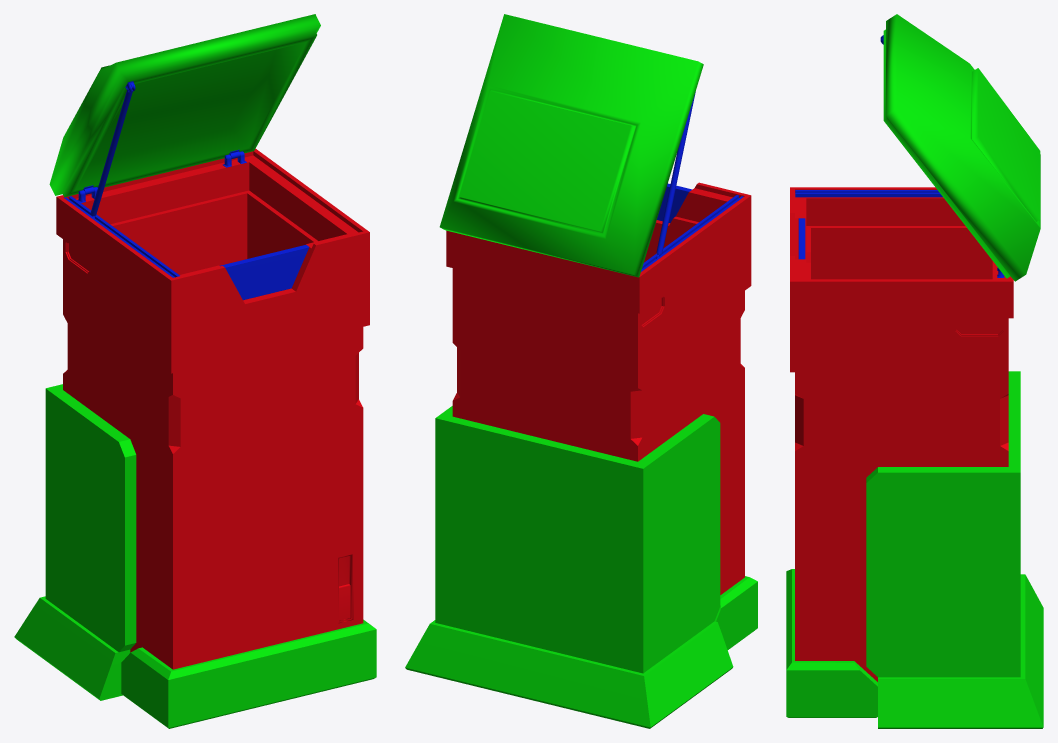
File: SciFi Dumpster HP.fbx
3 views of the same model, side by side, from view 1: azimuth 30°, elevation 25°; view 2: azimuth 150°, elevation 25°; view 3: azimuth 270°, elevation 25° (orthographic). The views are drawn at different scales.
Parts seen in each view (by area): view 1: SciFi Dumpster; view 2: SciFi Dumpster; view 3: SciFi Dumpster.
Boxes of the visible parts, box(x1,y1,x2,y2) form: SciFi Dumpster: box(14, 14, 376, 728); SciFi Dumpster: box(405, 14, 757, 728); SciFi Dumpster: box(786, 14, 1043, 728).
Size of the model in its own units: 5072 by 12000 by 4596.
